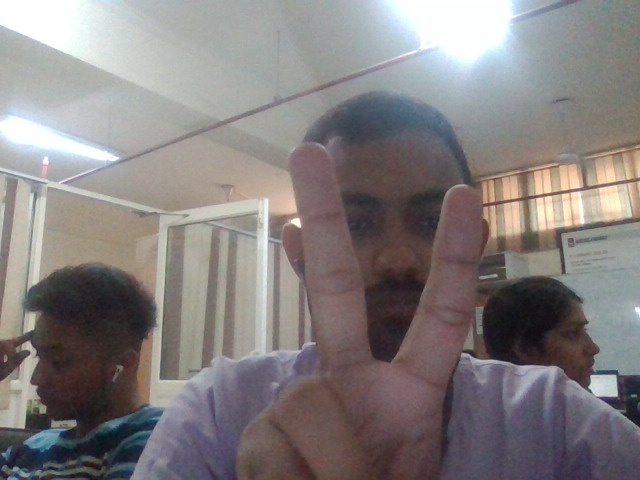ThankYou: (234, 142, 483, 480)
